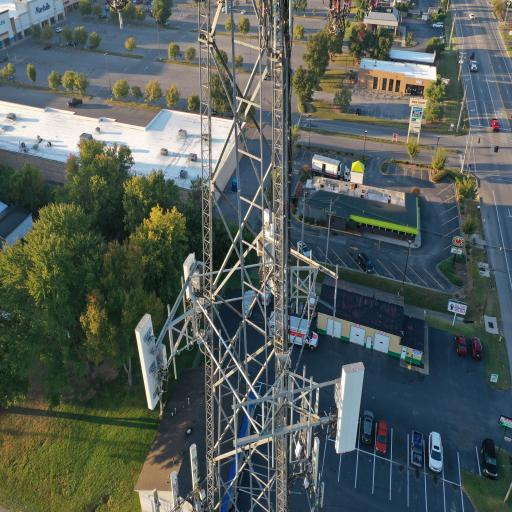supporting_tower: (135, 0, 365, 512)
